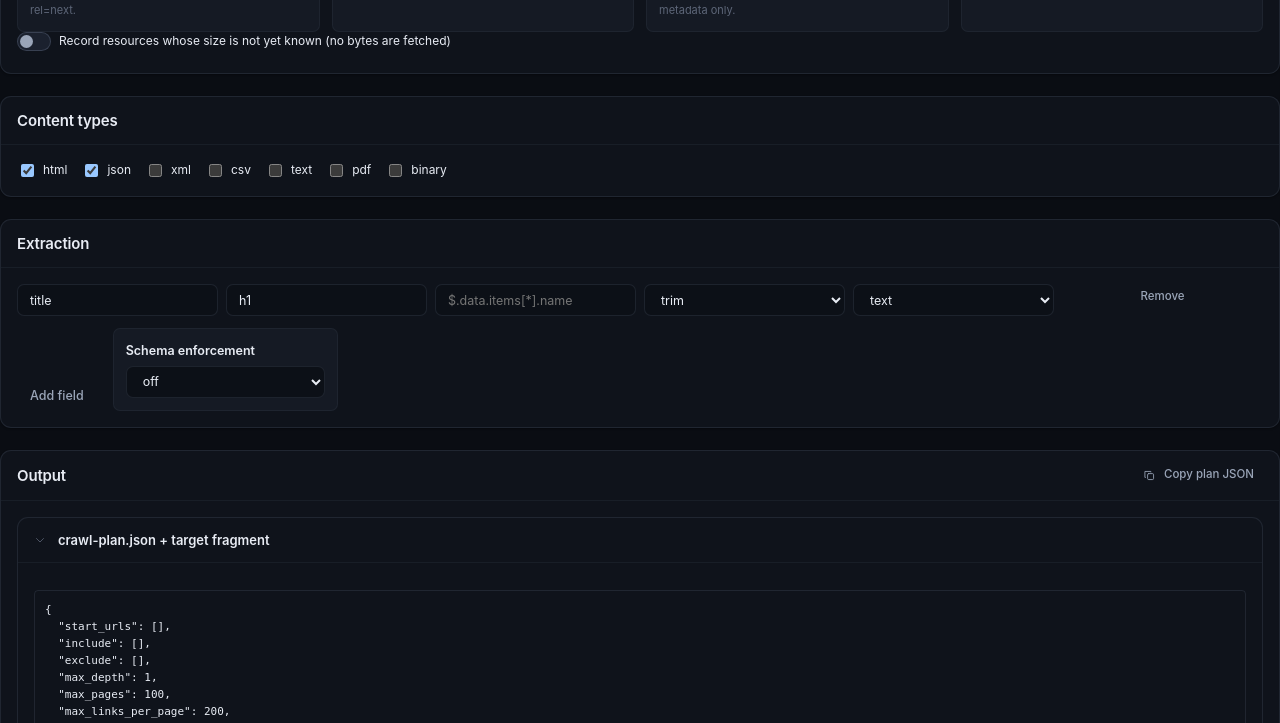
it: Crawl Studio — extraction and layout › adds a field row with a real transform op and a declared type
The width and height of the screenshot is (1280, 723).
(page scrolled)
Click the button "Add field". click: click(57, 396)
box: [17, 381, 97, 411]
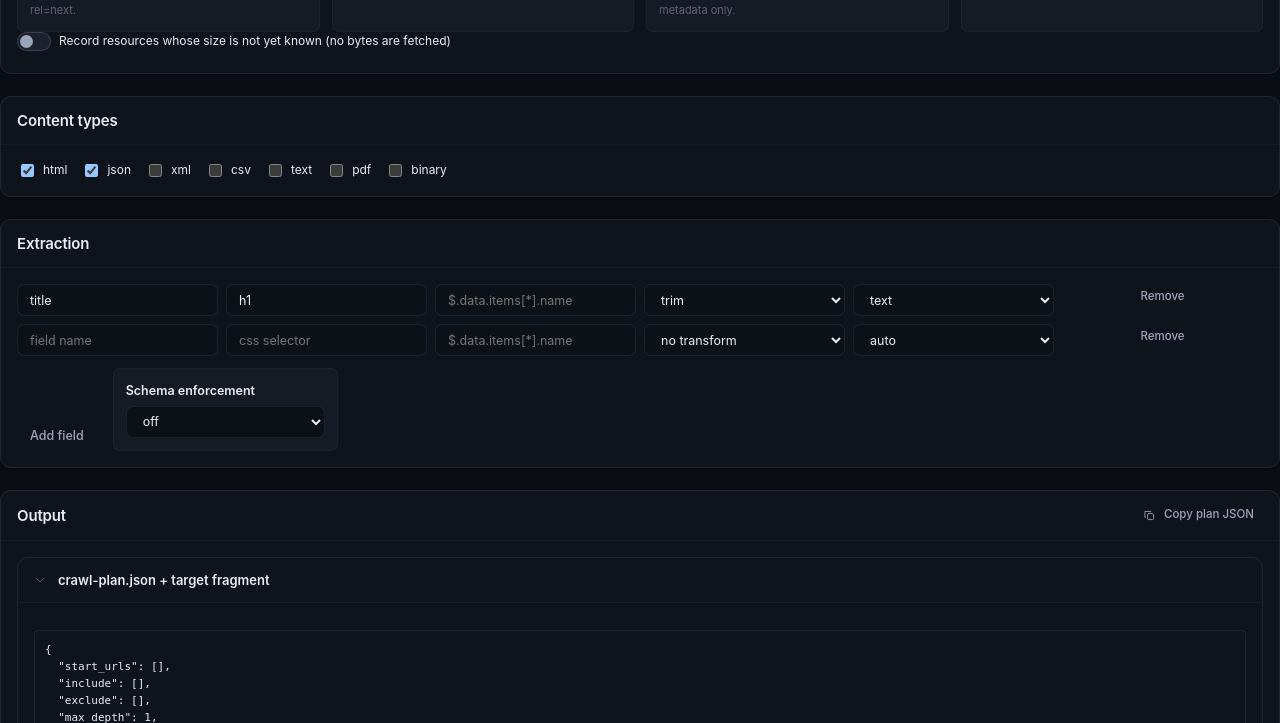
Check: the number of elements with class "cs-field" is 2, box [17, 284, 1263, 316]; [17, 324, 1263, 356]
